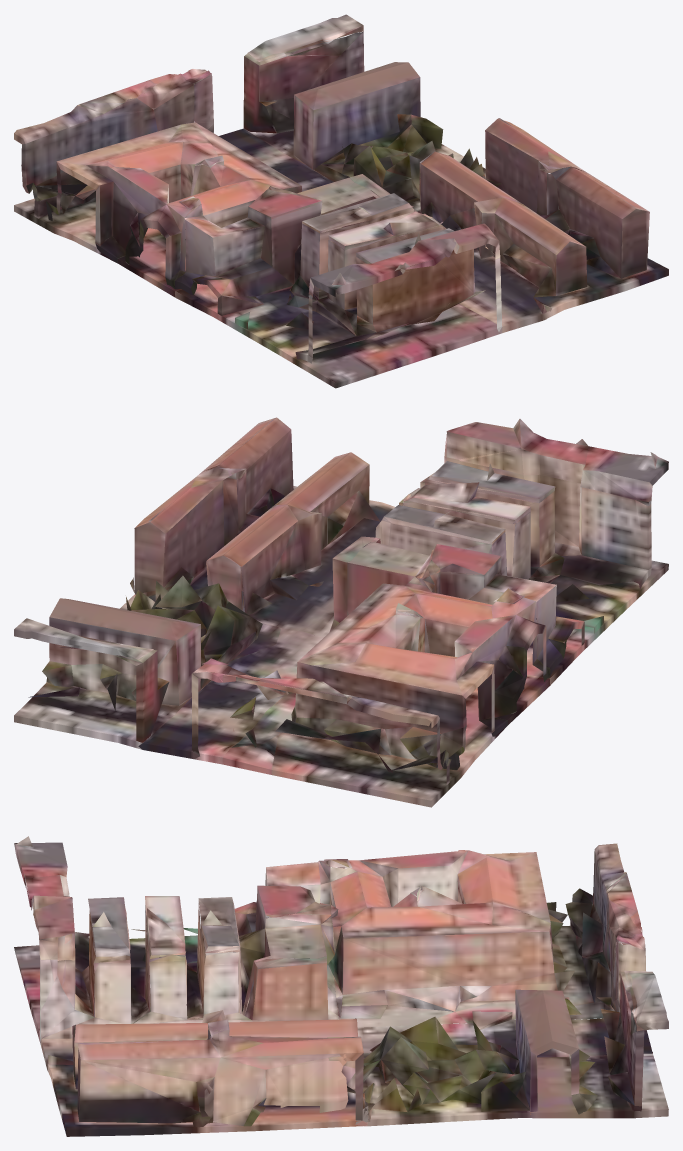
3 renders of one model, top to bottom at view 1: azimuth 30°, elevation 25°; view 2: azimuth 150°, elevation 25°; view 3: azimuth 270°, elevation 25°, orthographic. The views are drawn at different scales.
Parts seen in each view (by area): view 1: Mesh_0; view 2: Mesh_0; view 3: Mesh_0.
Part boxes in pixels (bbox=[...]): Mesh_0: bbox=[14, 14, 668, 388]; Mesh_0: bbox=[14, 417, 668, 807]; Mesh_0: bbox=[14, 836, 668, 1136].
Size of the model in its own units: 133 by 37.18 by 165.
1 material, 1 textured.
